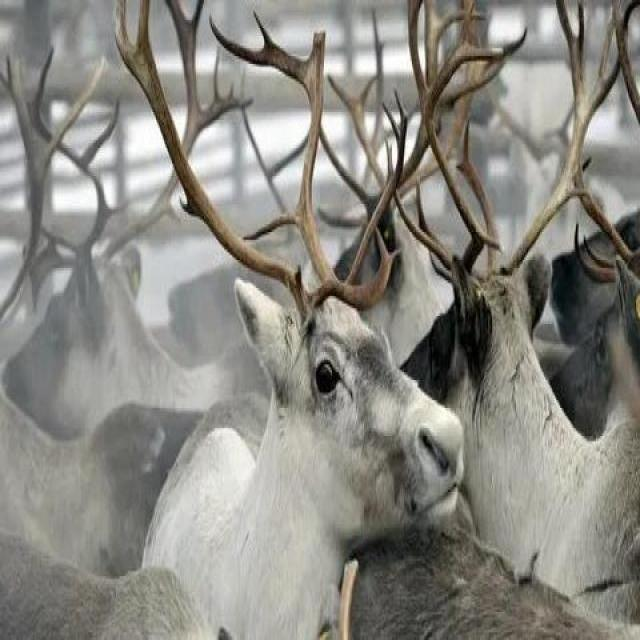deer: (119, 148, 427, 640)
